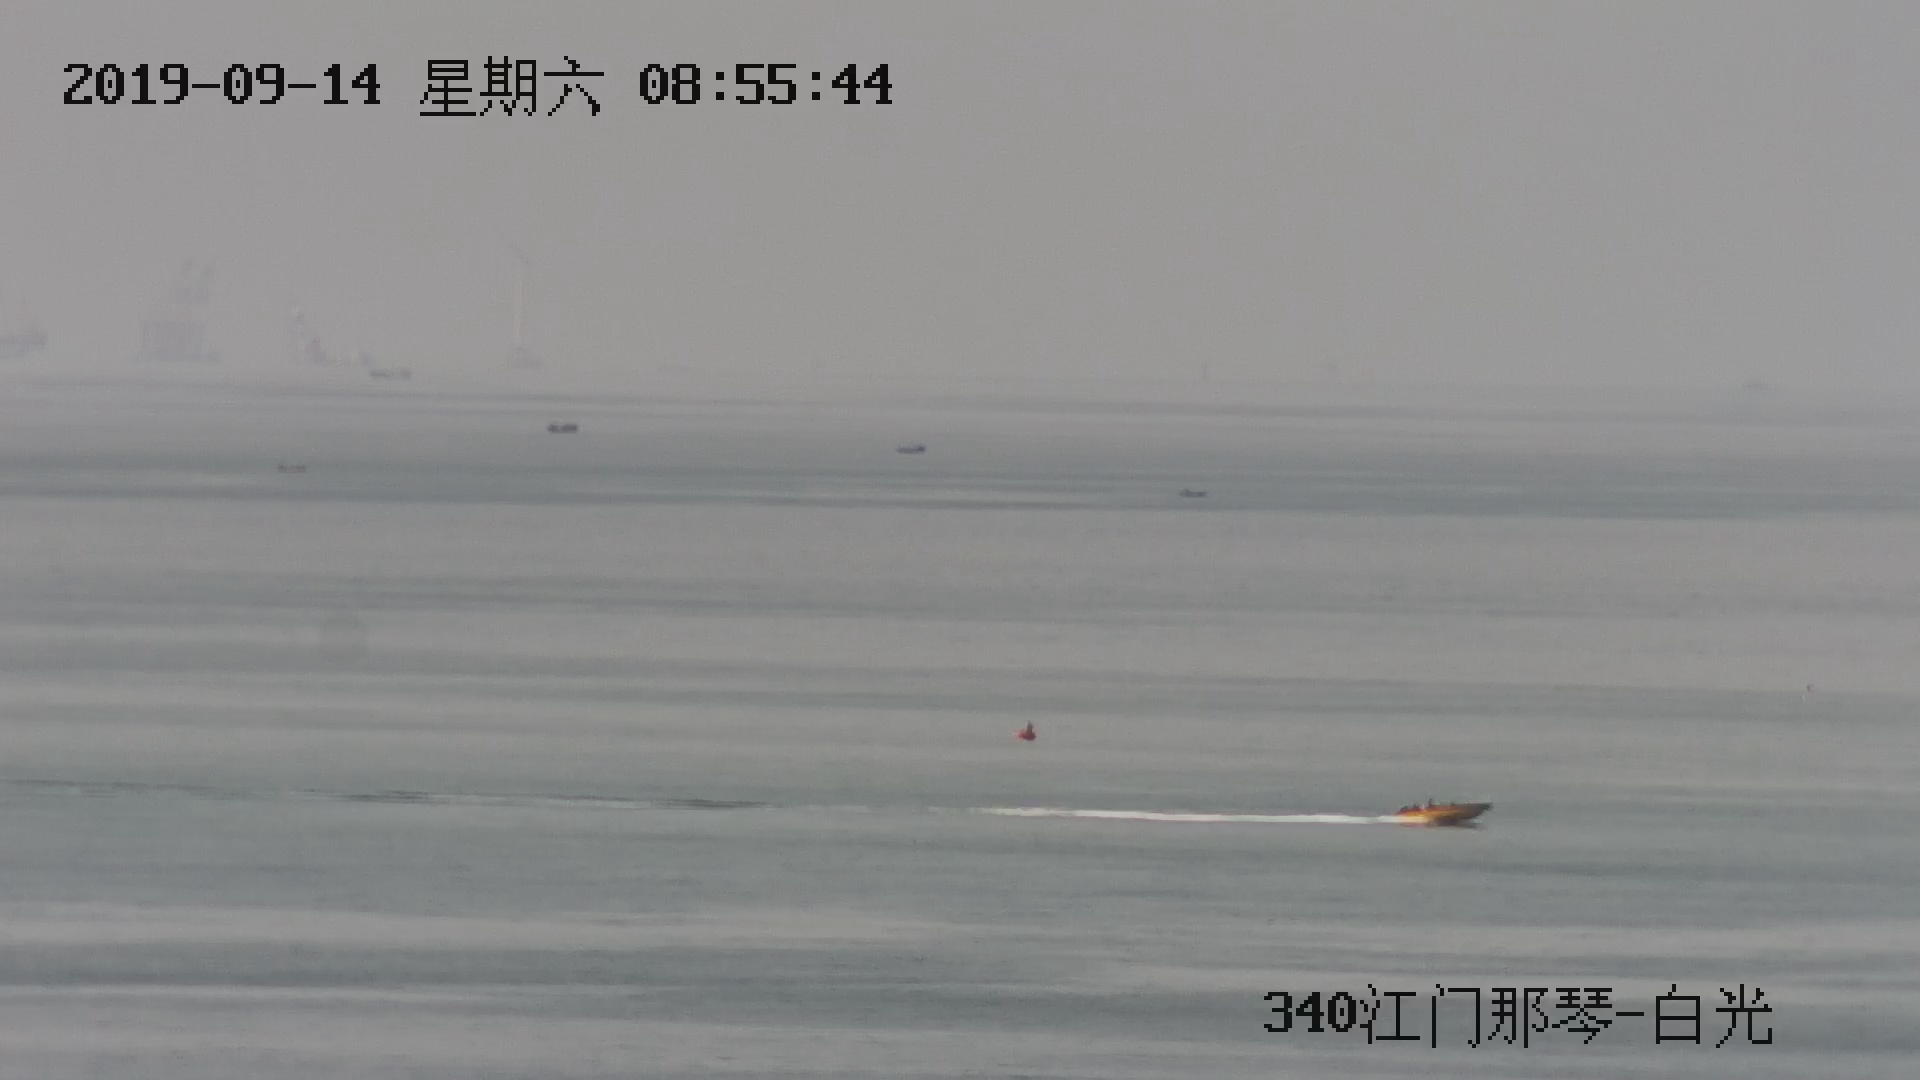ship: (1389, 800, 1487, 827)
